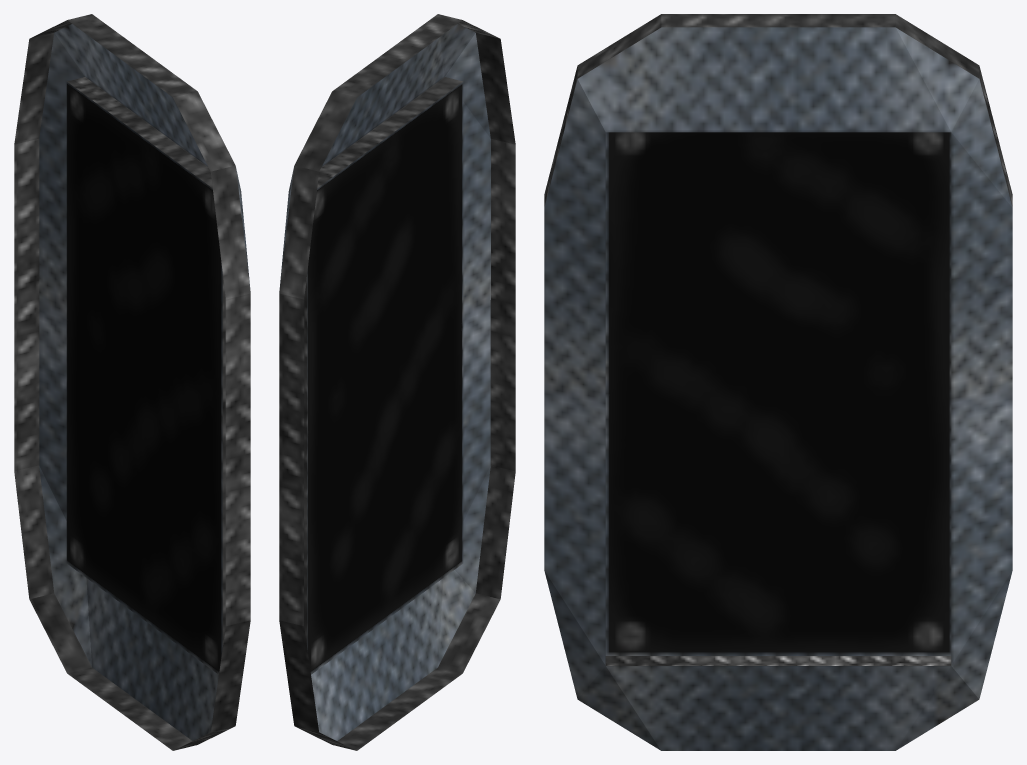
Rendered from light.obj.
The picture shows the model from 3 angles, left to right: view 1: azimuth 30°, elevation 25°; view 2: azimuth 150°, elevation 25°; view 3: azimuth 270°, elevation 25°; orthographic projection. The views are drawn at different scales.
Visible parts, largest first — view 1: Plane; view 2: Plane; view 3: Plane.
Part boxes in pixels (x1,y1,x2,y2): Plane: [14, 14, 250, 750]; Plane: [279, 14, 515, 750]; Plane: [544, 14, 1012, 750].
Size of the model in its own units: 0.7406 by 10.71 by 6.28.
